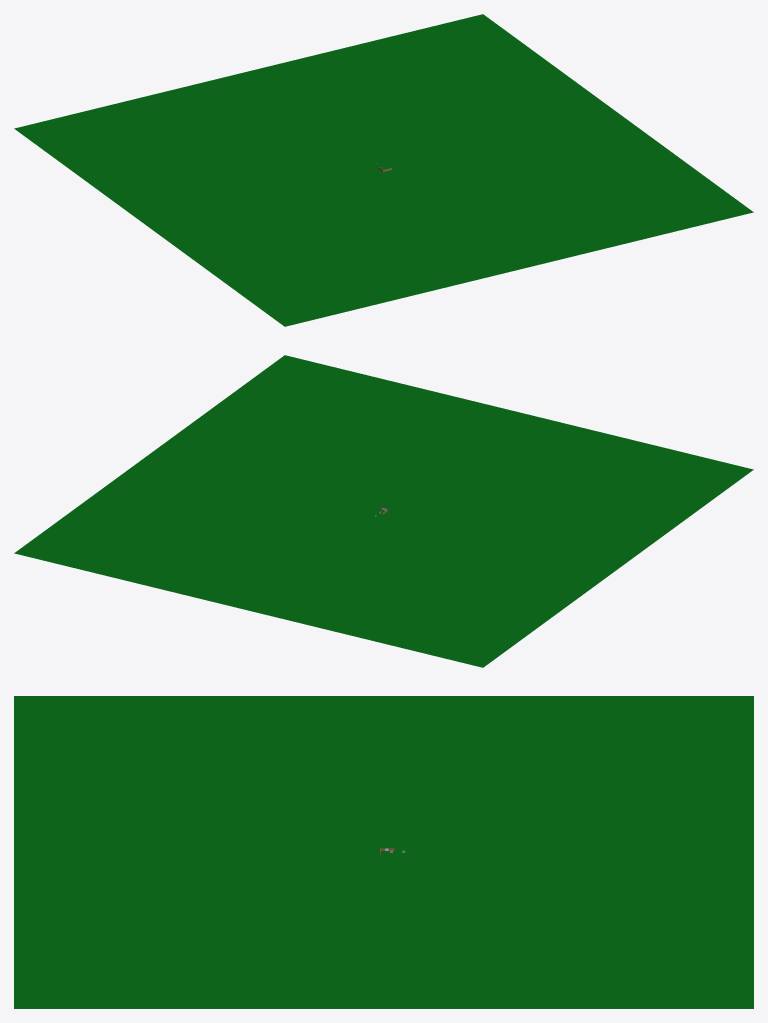
File: test_area.glb
3 views of the same model, one above another, from view 1: azimuth 30°, elevation 25°; view 2: azimuth 150°, elevation 25°; view 3: azimuth 270°, elevation 25° (orthographic). The views are drawn at different scales.
Visible parts, largest first — view 1: Plane; view 2: Plane; view 3: Plane.
Boxes of the visible parts, box(x1,y1,x2,y2) form: Plane: box(14, 14, 753, 326); Plane: box(14, 355, 753, 667); Plane: box(14, 696, 753, 1008).
Size of the model in its own units: 600 by 2.52 by 600.
Materials: 4 (1 with a texture image).
